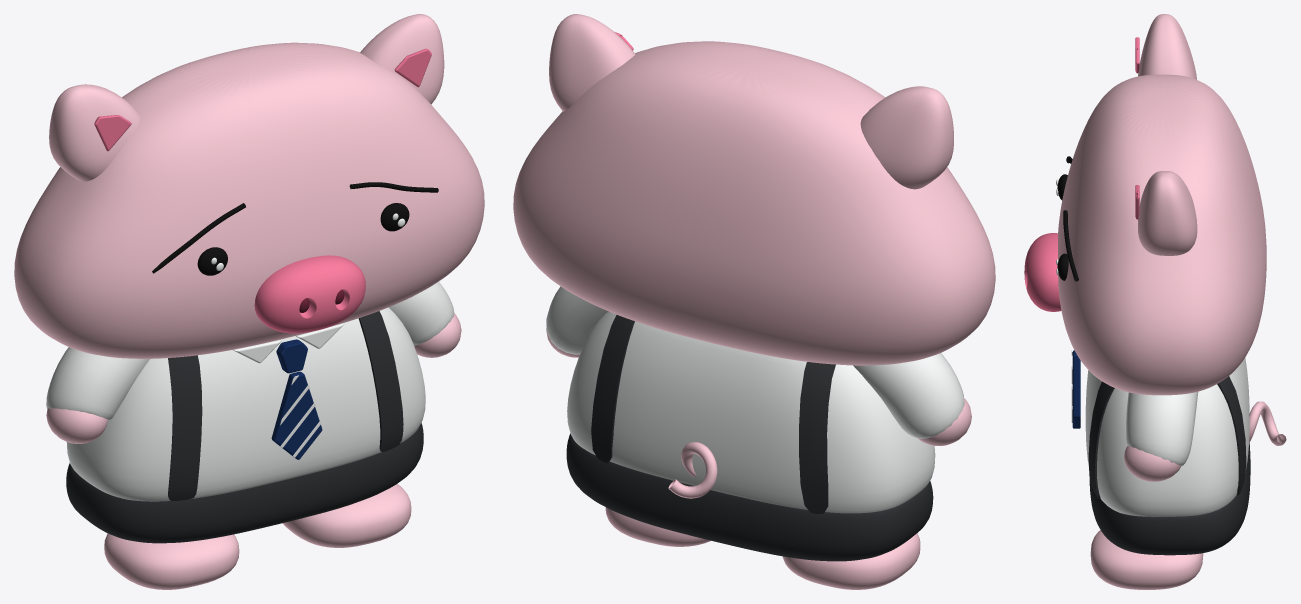
Rendered from tie-pig.glb.
3 renders of one model, left to right at view 1: azimuth 30°, elevation 25°; view 2: azimuth 150°, elevation 25°; view 3: azimuth 270°, elevation 25°, orthographic. The views are drawn at different scales.
Visible parts, largest first — view 1: Head_export, Shirt_export, Trousers_export, Snout_export, Right foot_export, Right ear_export, Right sleeve_export, Left foot_export, Right suspender_export, Left ear_export, Left suspender_export, Tie blade_export (+8 smaller); view 2: Head_export, Shirt_export, Trousers_export, Right ear_export, Right sleeve_export, Left ear_export, Right suspender_export, Right foot_export, Left suspender_export, Left sleeve_export, Left foot_export, Curled tail_export (+1 smaller); view 3: Head_export, Shirt_export, Trousers_export, Left sleeve_export, Left ear_export, Left foot_export, Right ear_export, Left suspender_export, Snout_export, Left hand_export, Curled tail_export, Tie blade_export (+1 smaller).
Boxes of the visible parts, <box> form: Head_export: <box>14,42,484,358</box>; Shirt_export: <box>66,307,425,501</box>; Trousers_export: <box>66,423,423,543</box>; Snout_export: <box>254,255,365,333</box>; Right foot_export: <box>104,533,239,589</box>; Right ear_export: <box>49,84,139,181</box>; Right sleeve_export: <box>46,347,149,419</box>; Left foot_export: <box>282,484,411,547</box>; Right suspender_export: <box>168,355,202,500</box>; Left ear_export: <box>360,14,444,104</box>; Left suspender_export: <box>358,311,403,451</box>; Tie blade_export: <box>271,371,322,459</box>; Head_export: <box>513,41,995,365</box>; Shirt_export: <box>567,311,935,513</box>; Trousers_export: <box>566,433,933,561</box>; Right ear_export: <box>860,86,953,189</box>; Right sleeve_export: <box>853,353,964,438</box>; Left ear_export: <box>549,14,635,111</box>; Right suspender_export: <box>799,362,835,513</box>; Right foot_export: <box>782,533,920,589</box>; Left suspender_export: <box>591,315,634,463</box>; Left sleeve_export: <box>546,286,608,354</box>; Left foot_export: <box>605,507,710,546</box>; Curled tail_export: <box>668,442,717,498</box>; Head_export: <box>1058,74,1266,395</box>; Shirt_export: <box>1085,358,1249,516</box>; Trousers_export: <box>1089,442,1250,555</box>; Left sleeve_export: <box>1126,391,1198,465</box>; Left ear_export: <box>1138,171,1197,255</box>; Left foot_export: <box>1090,530,1203,589</box>; Right ear_export: <box>1138,14,1196,79</box>; Left suspender_export: <box>1088,376,1246,499</box>; Snout_export: <box>1024,233,1061,311</box>; Left hand_export: <box>1124,446,1181,481</box>; Curled tail_export: <box>1249,401,1286,445</box>; Tie blade_export: <box>1072,350,1080,428</box>.
Size of the model in its own units: 1.99 by 2.15 by 1.14.
